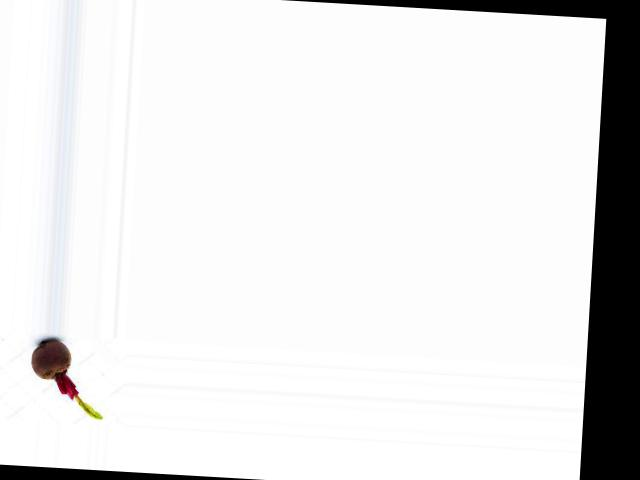beet: (27, 339, 105, 418)
